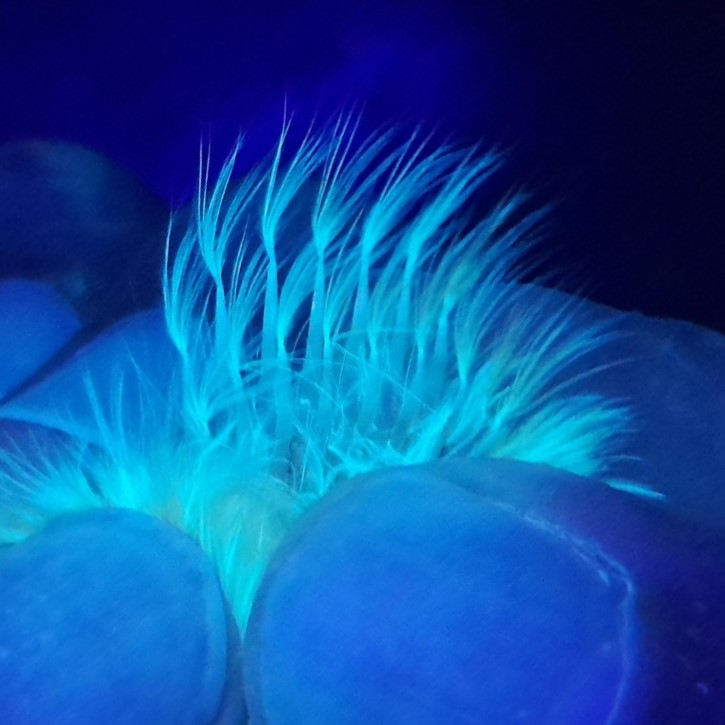female: (145, 224, 506, 498)
